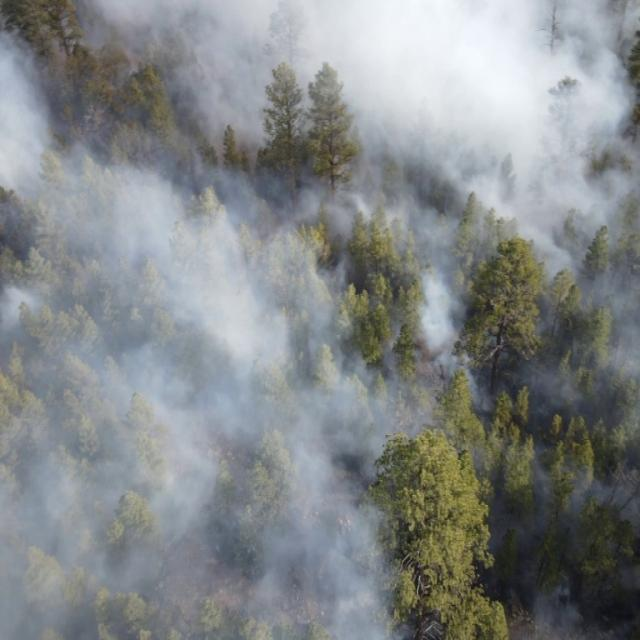smoke: (0, 0, 640, 434), (0, 432, 396, 640), (487, 450, 640, 640)
